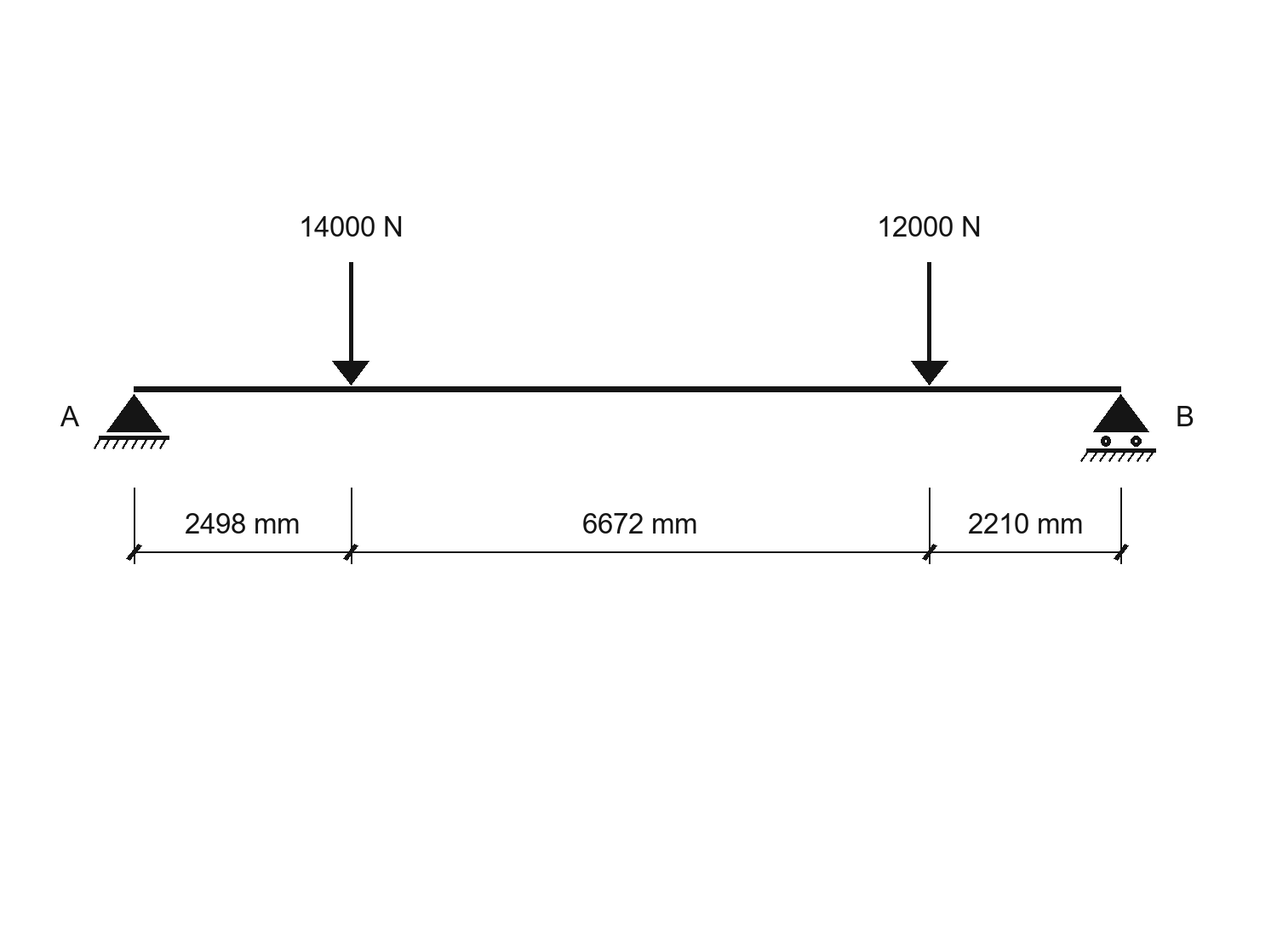pin_support: (94, 394, 169, 449)
point_load: (332, 262, 369, 385), (911, 262, 948, 385)
roller_support: (1080, 394, 1156, 462)
